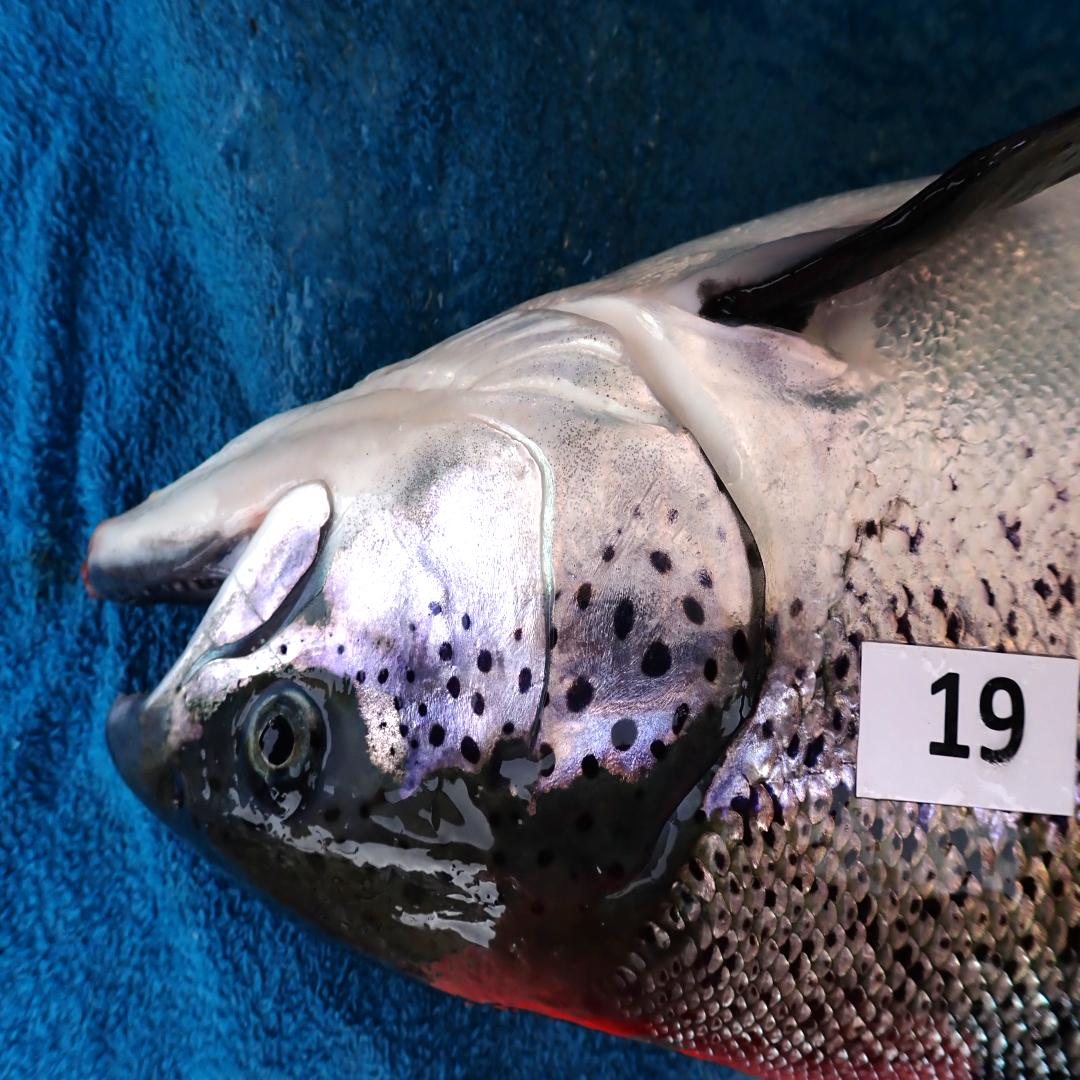roi: (332, 304, 759, 798)
